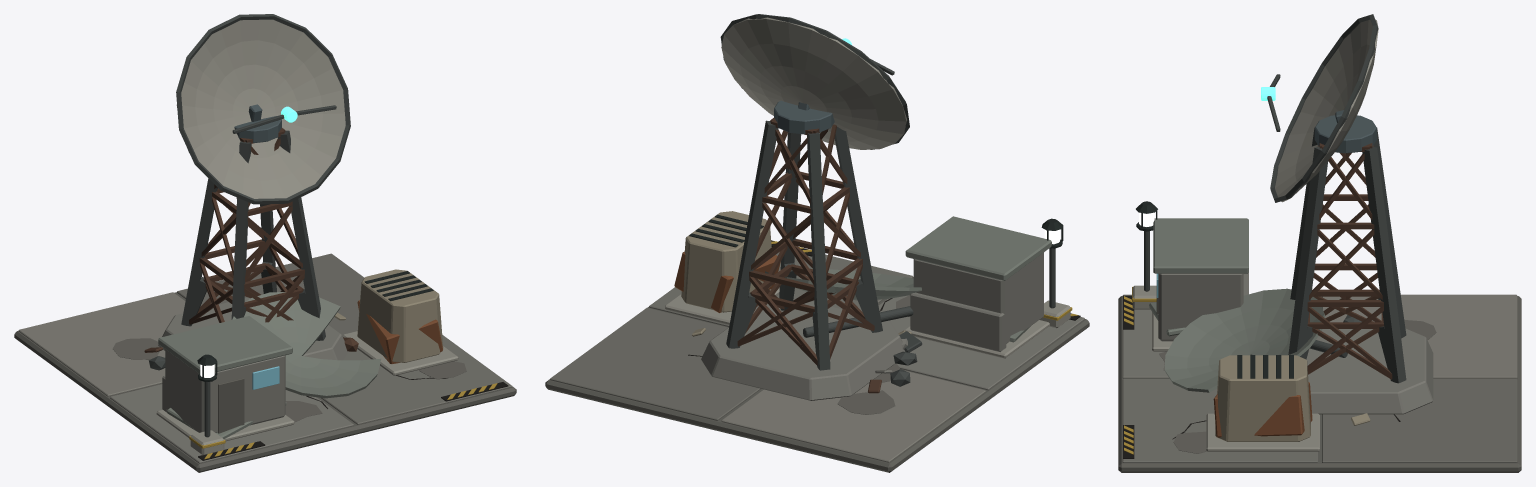
File: t_radar.glb
3 views of the same model, side by side, from view 1: azimuth 30°, elevation 25°; view 2: azimuth 150°, elevation 25°; view 3: azimuth 270°, elevation 25° (orthographic). The views are drawn at different scales.
Parts seen in each view (by area): view 1: Site foundation, Intact structure, Scanning radar head, Ruined structure; view 2: Site foundation, Intact structure, Scanning radar head, Ruined structure; view 3: Site foundation, Intact structure, Ruined structure, Scanning radar head.
Part boxes in pixels (box(x1,y1,x2,y2)): Site foundation: box(14, 253, 516, 472); Intact structure: box(158, 116, 443, 433); Scanning radar head: box(176, 14, 350, 204); Ruined structure: box(144, 262, 442, 438); Site foundation: box(545, 218, 1089, 472); Intact structure: box(681, 100, 1051, 370); Scanning radar head: box(720, 14, 909, 149); Ruined structure: box(674, 251, 1030, 393); Site foundation: box(1118, 201, 1521, 472); Intact structure: box(1153, 115, 1406, 441); Ruined structure: box(1149, 272, 1403, 437); Scanning radar head: box(1261, 14, 1378, 202).
Bounding box in the file's own units: 7.8 × 7.78 × 7.8.
